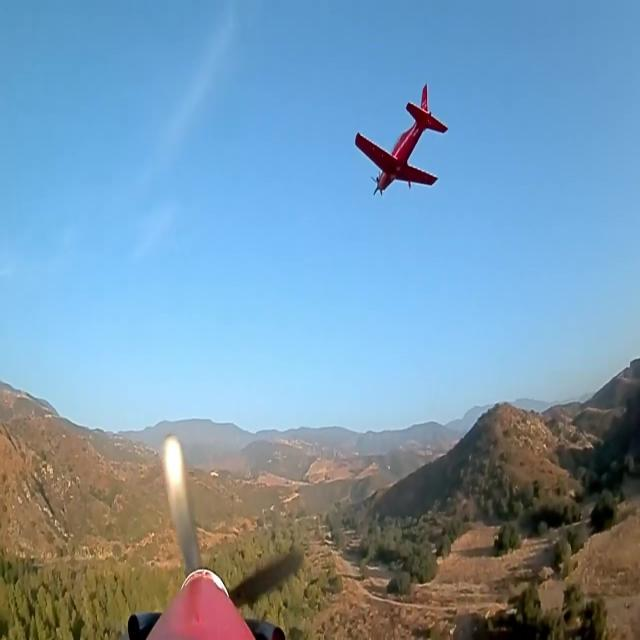iha: (386, 107, 417, 160)
